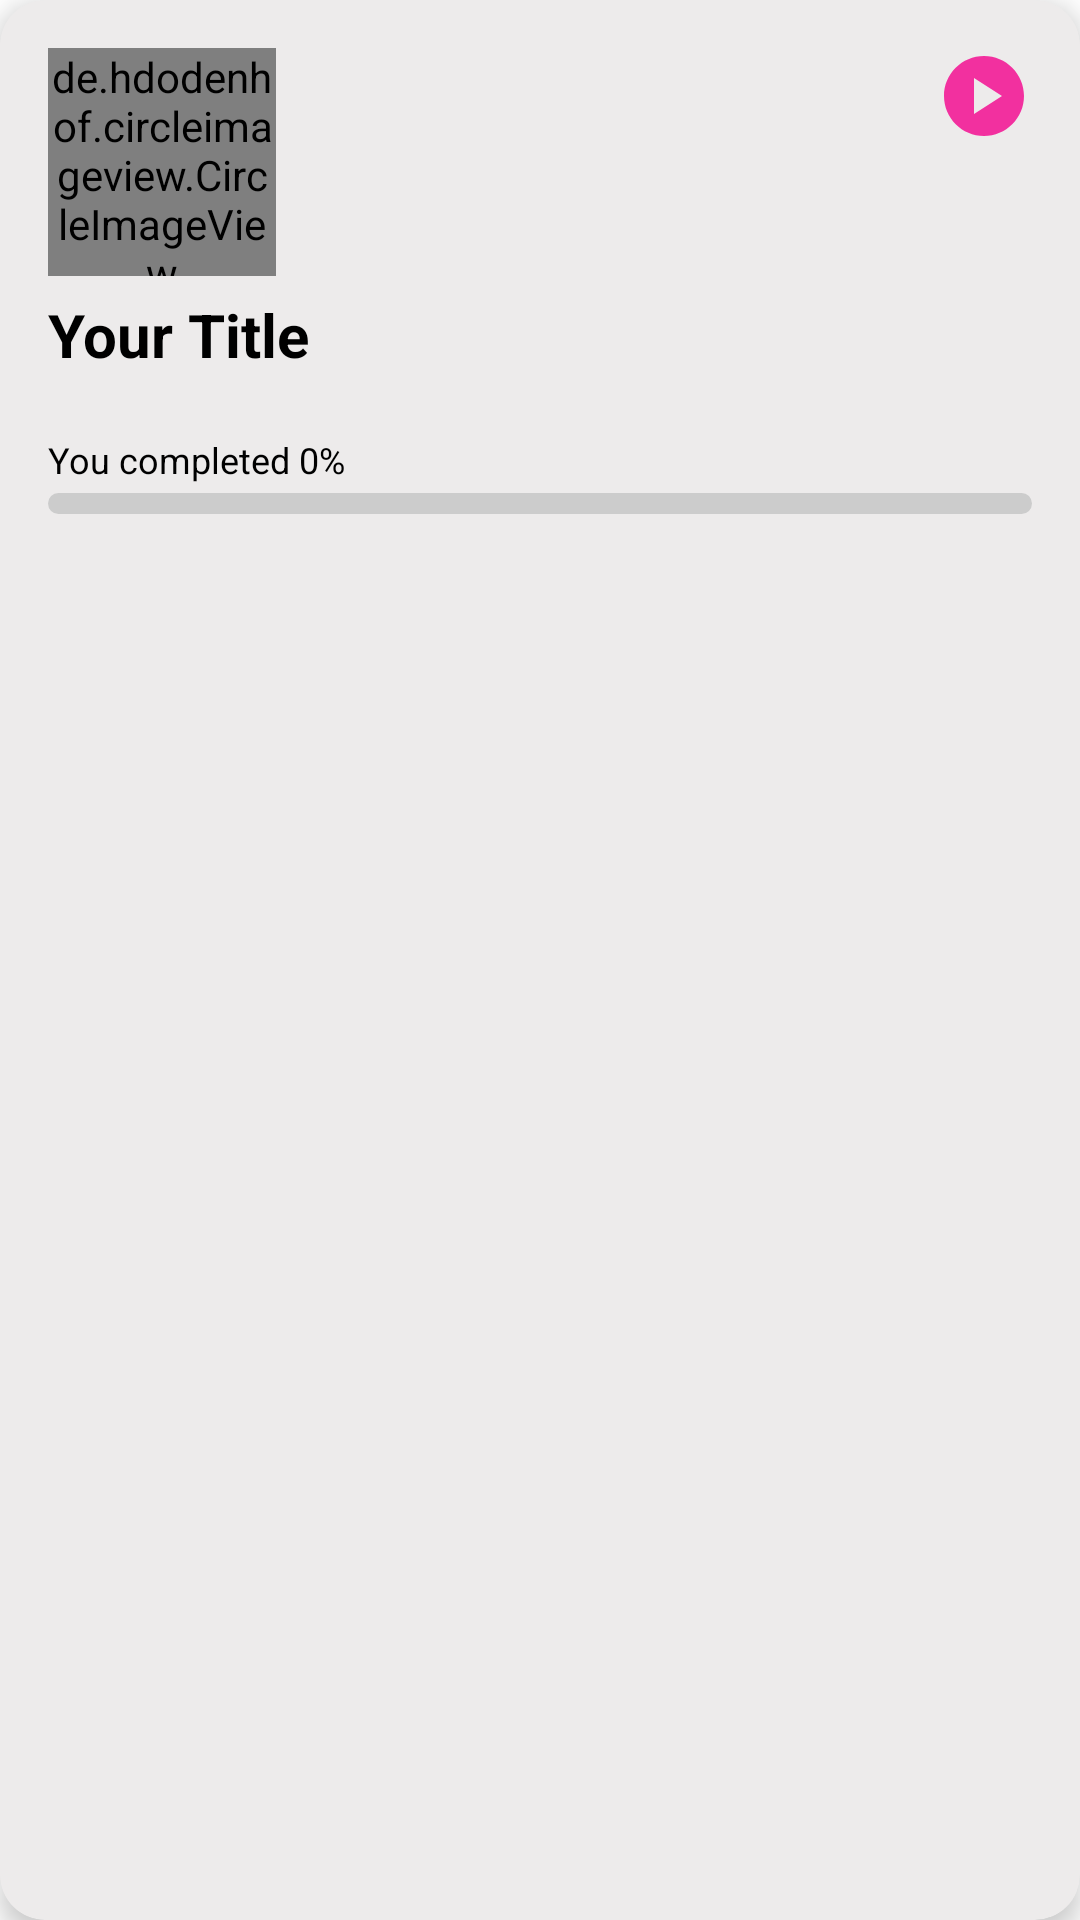

Named icons in this screenshot (1080×1920) and their bounding boxes, (x1=x1, y1=y1, x2=x2, y2=y2):
play: (x1=944, y1=56, x2=1024, y2=136)
